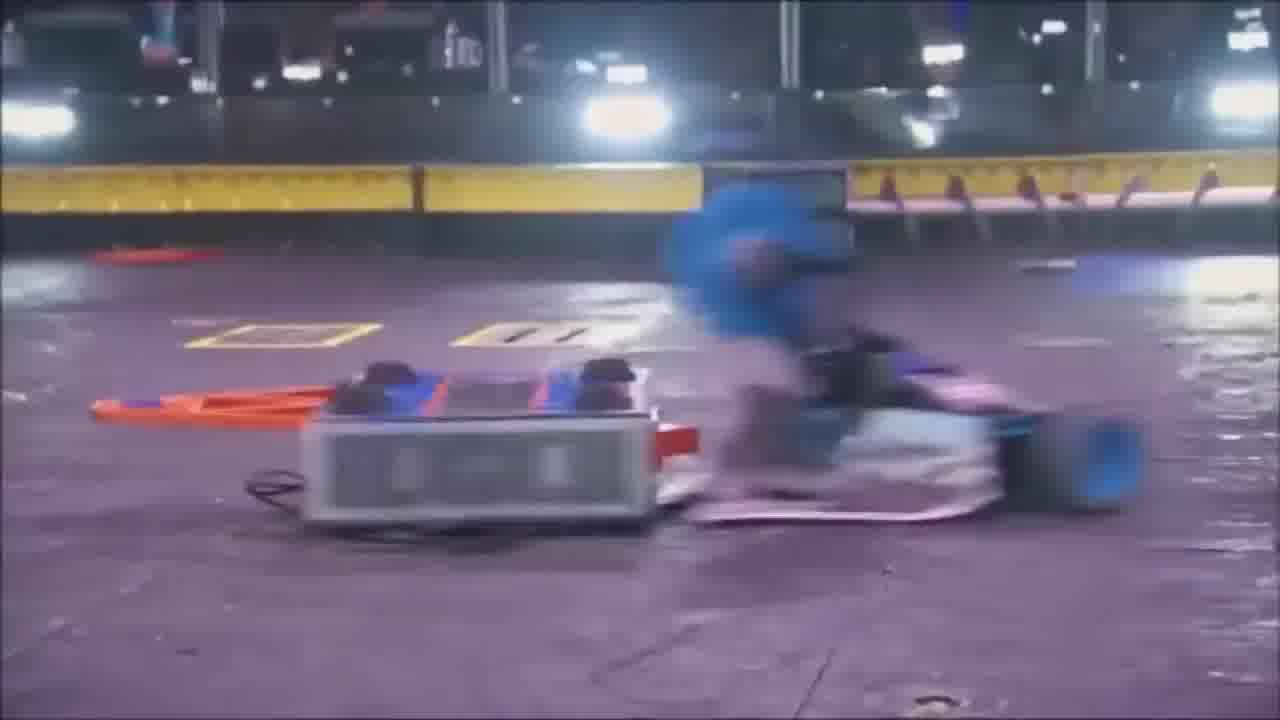combatbot: (655, 325, 1153, 529), (289, 359, 698, 551)
